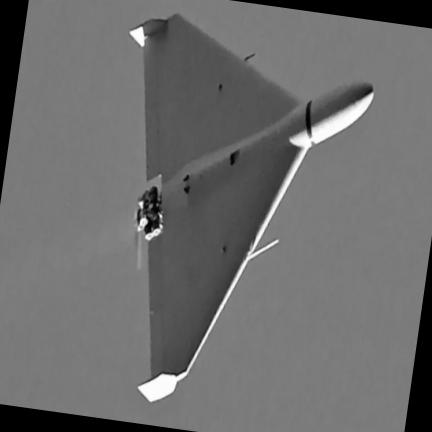Shahed: (130, 14, 373, 401)
